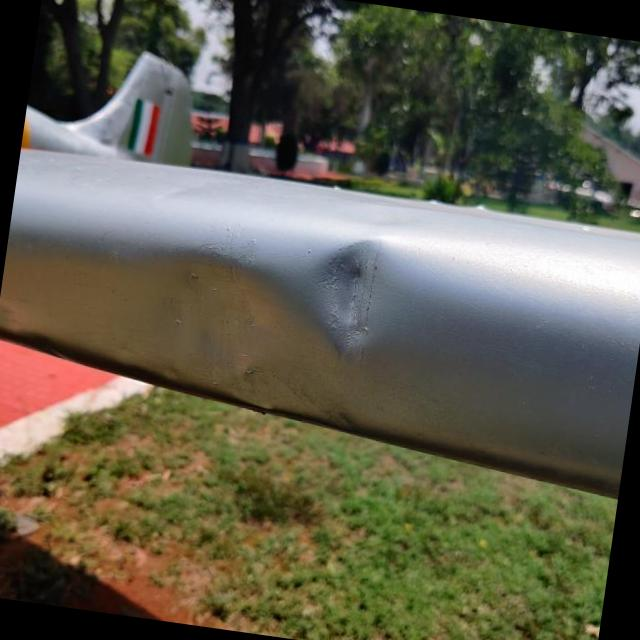Dent: (293, 222, 417, 367)
